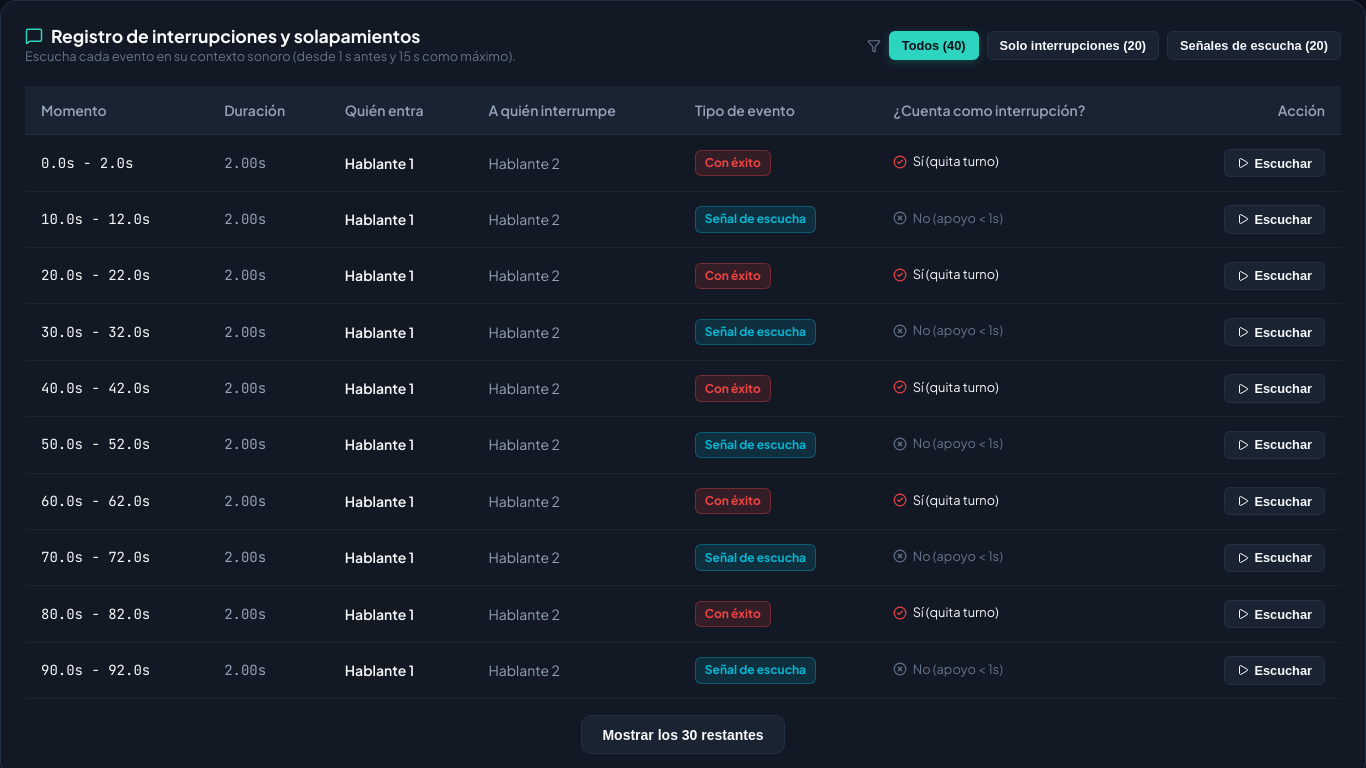
Test: registro de interrupciones › al cambiar de filtro vuelve a las primeras filas
The image size is (1366, 768).
Click the button "Mostrar los 30 restantes" at (683, 734), box [582, 715, 785, 754]
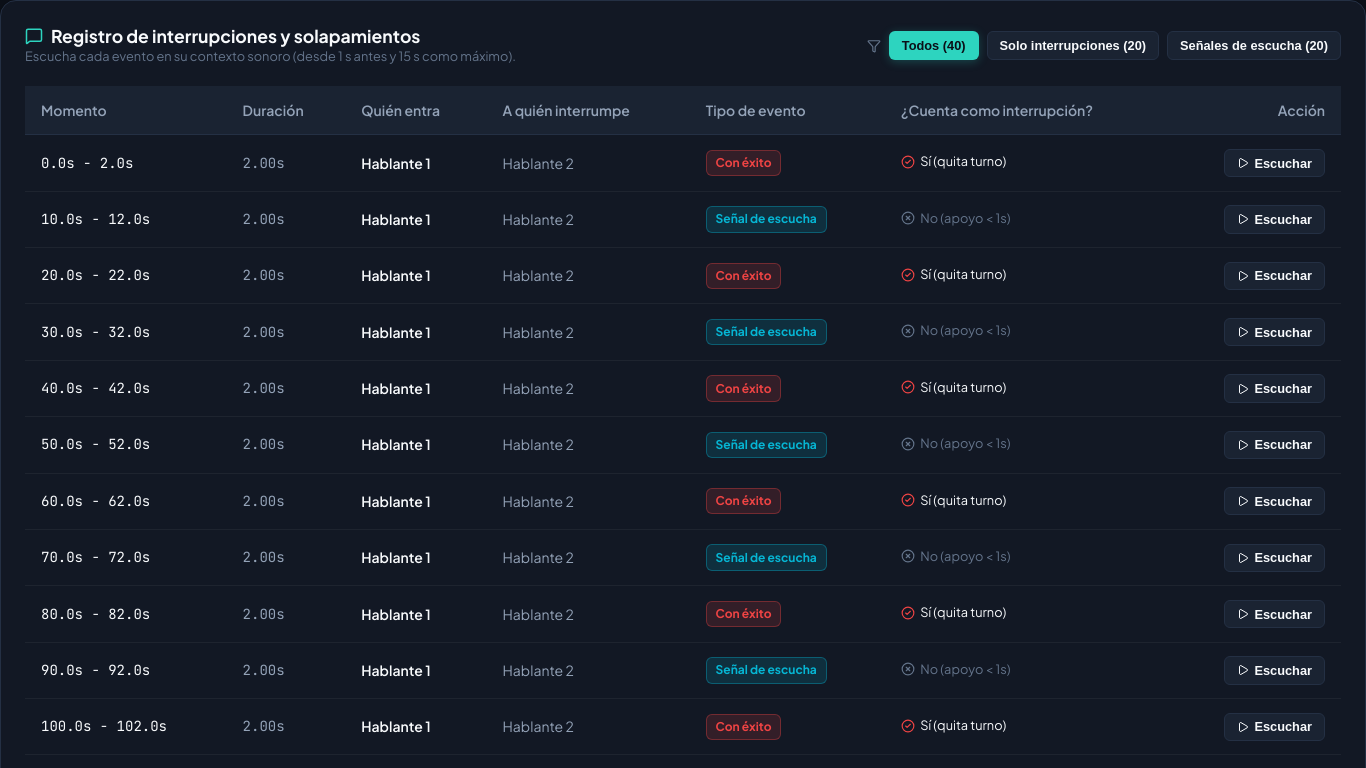
Click the button "Solo interrupciones (20)" at (1073, 46), box [986, 32, 1159, 60]
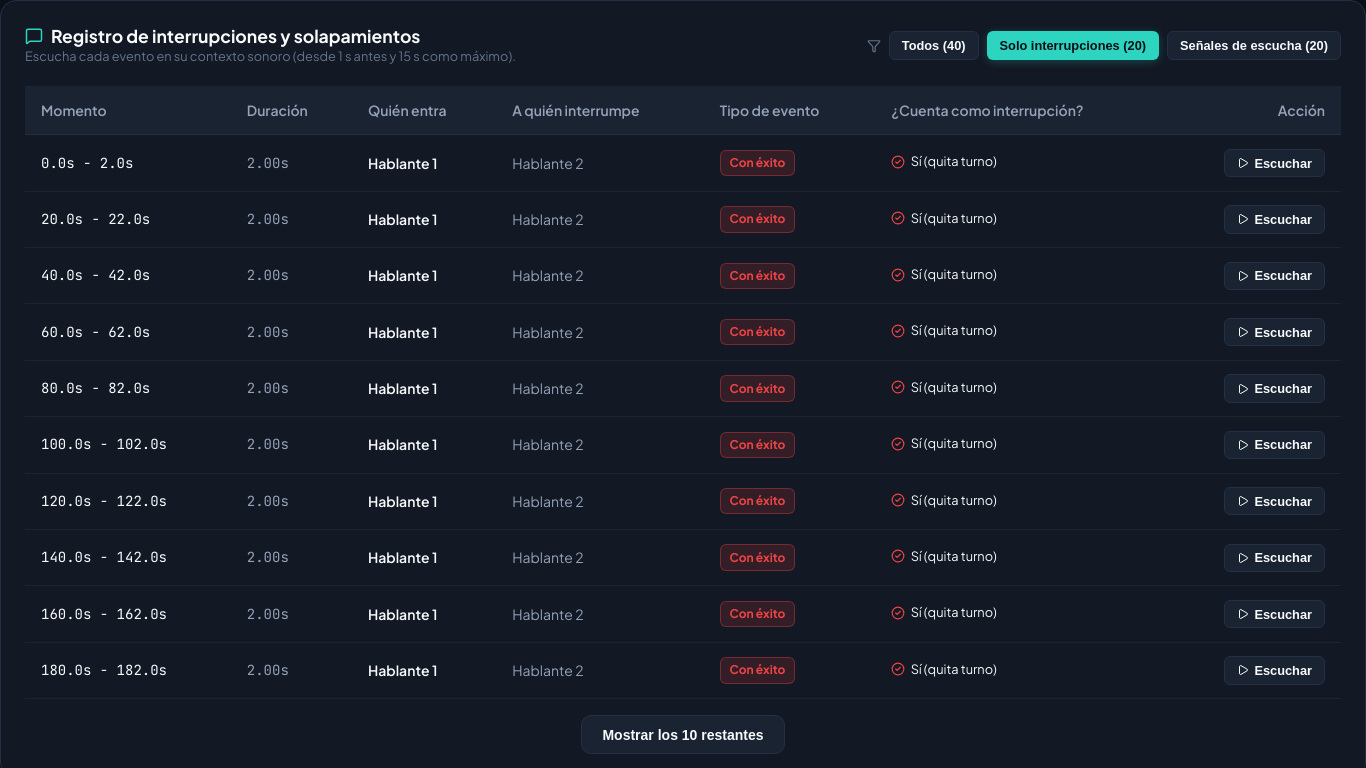
Expected: the button "Mostrar los 10 restantes" is shown, [582, 715, 785, 754]
